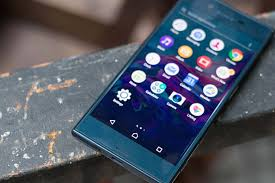sony: (72, 1, 274, 183)
